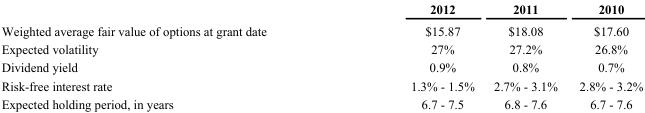table: (0, 1, 642, 110)
table column: (0, 1, 337, 110), (337, 1, 483, 110), (483, 1, 567, 110), (567, 1, 642, 110)
table column header: (0, 1, 642, 19)
table row: (0, 19, 642, 39), (0, 75, 642, 94), (0, 1, 642, 19), (0, 39, 642, 57), (0, 57, 642, 75), (0, 94, 642, 110)
